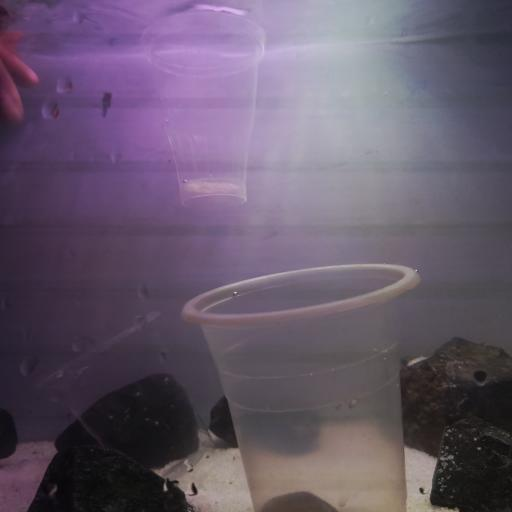plastic_cup: (179, 261, 423, 512), (31, 308, 215, 483), (136, 4, 269, 214)
